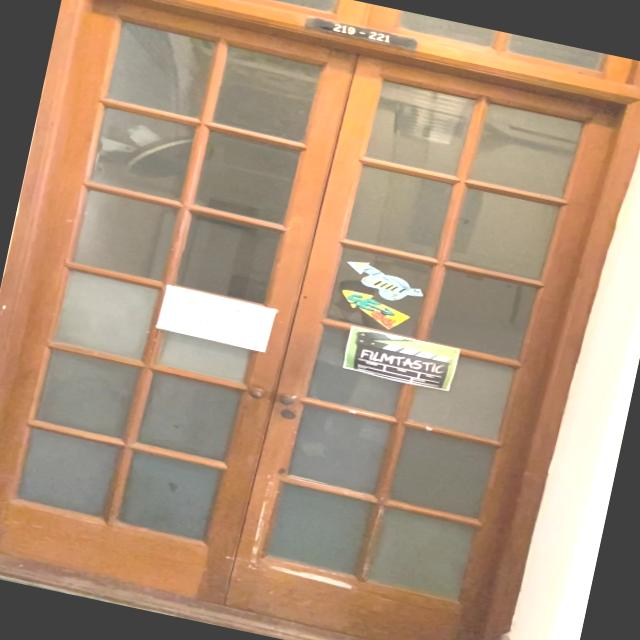room221: (301, 13, 428, 55)
